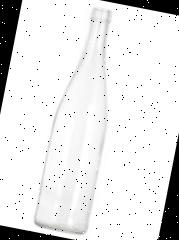glass: (31, 4, 130, 239)
